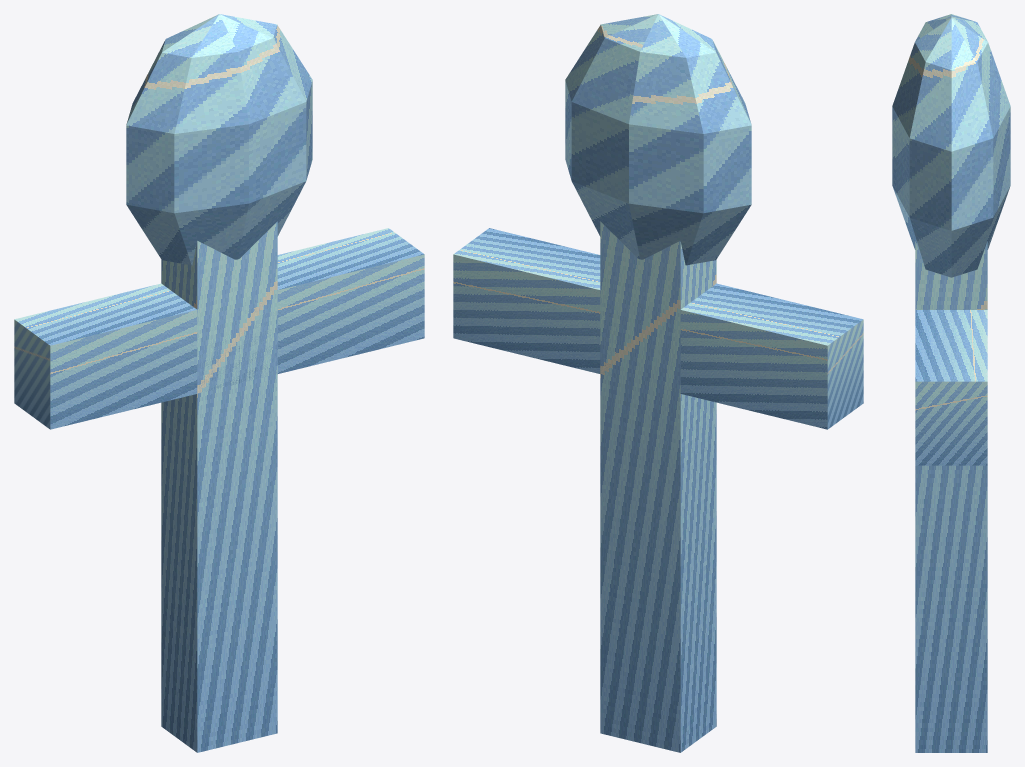
Rendered from reliquia_sagrada_12.glb.
The picture shows the model from 3 angles, left to right: view 1: azimuth 30°, elevation 25°; view 2: azimuth 150°, elevation 25°; view 3: azimuth 270°, elevation 25°; orthographic projection.
Visible parts, largest first — view 1: reliquia_sagrada_12; view 2: reliquia_sagrada_12; view 3: reliquia_sagrada_12.
Boxes of the visible parts, x1,y1,x2,y2 form: reliquia_sagrada_12: (14,14,424,752); reliquia_sagrada_12: (453,14,863,752); reliquia_sagrada_12: (892,14,1010,752).
Bounding box in the file's own units: 0.42 × 0.7675 × 0.1151.
Materials: 1 (1 with a texture image).
